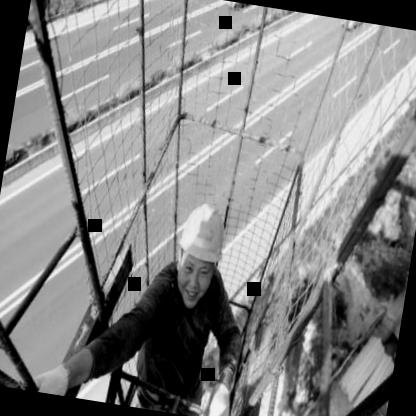helmet: (163, 190, 235, 308)
